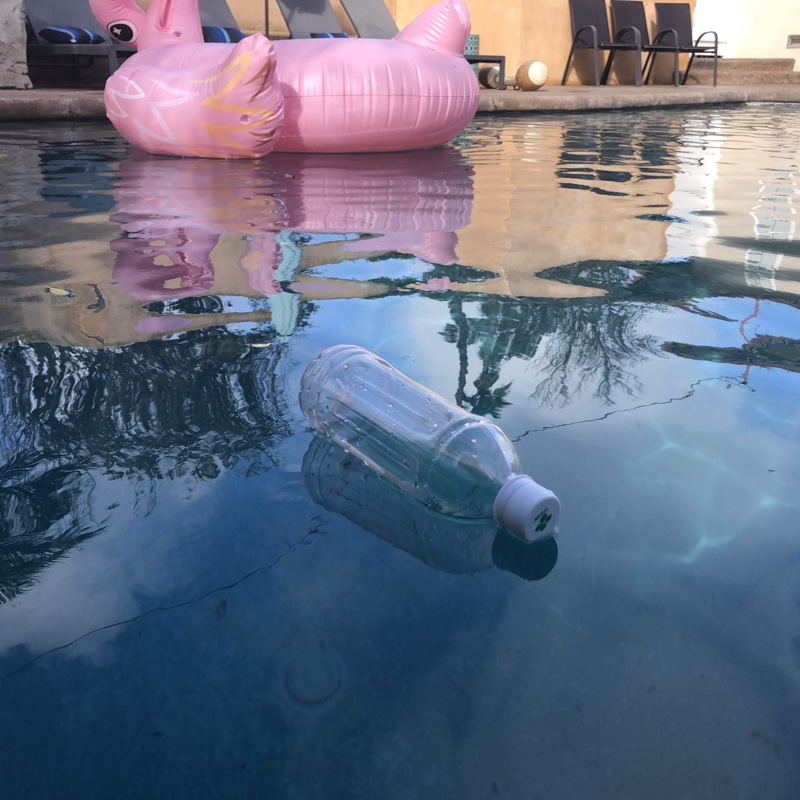Plastic Bottle: (296, 340, 566, 549)
